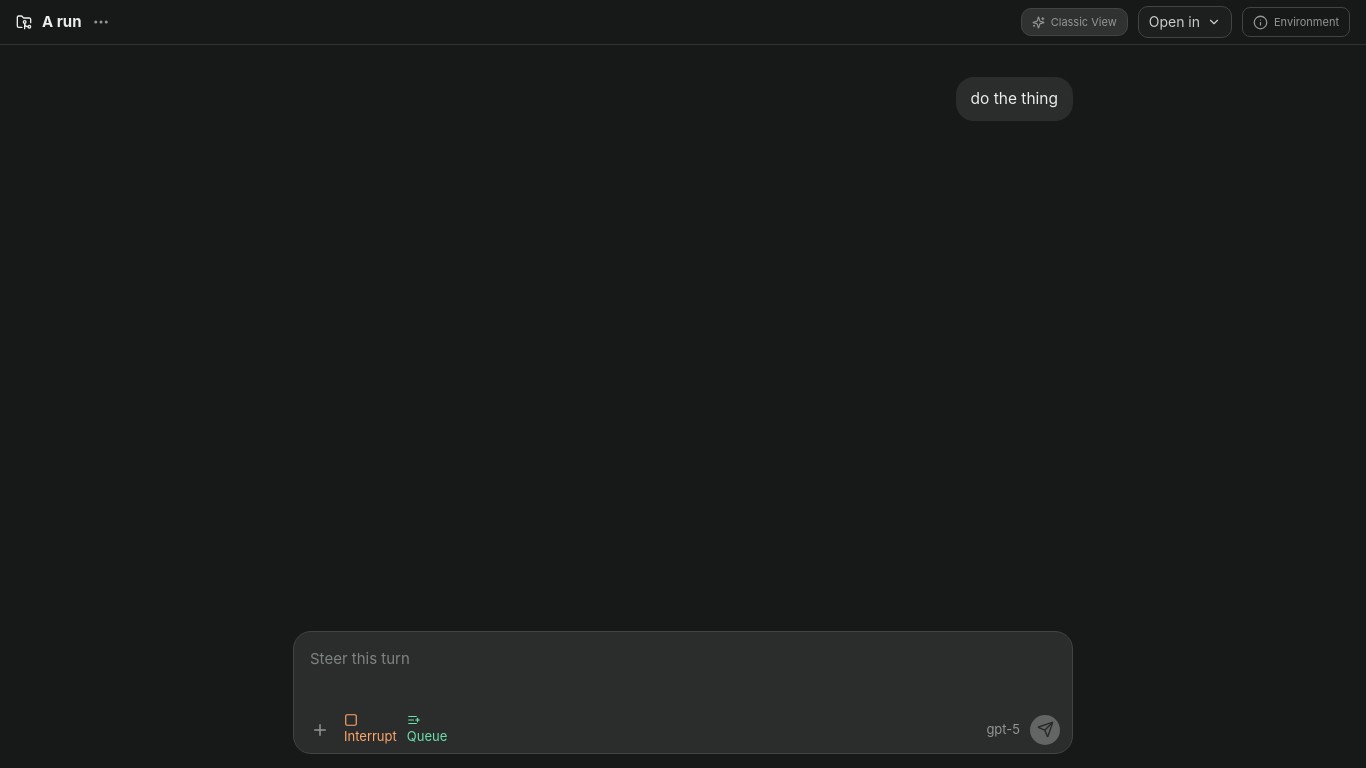
Test: RunScreen · environment › opens on request and describes where the run is executing
Click the button "Environment": (1296,22) [1242,7,1350,37]
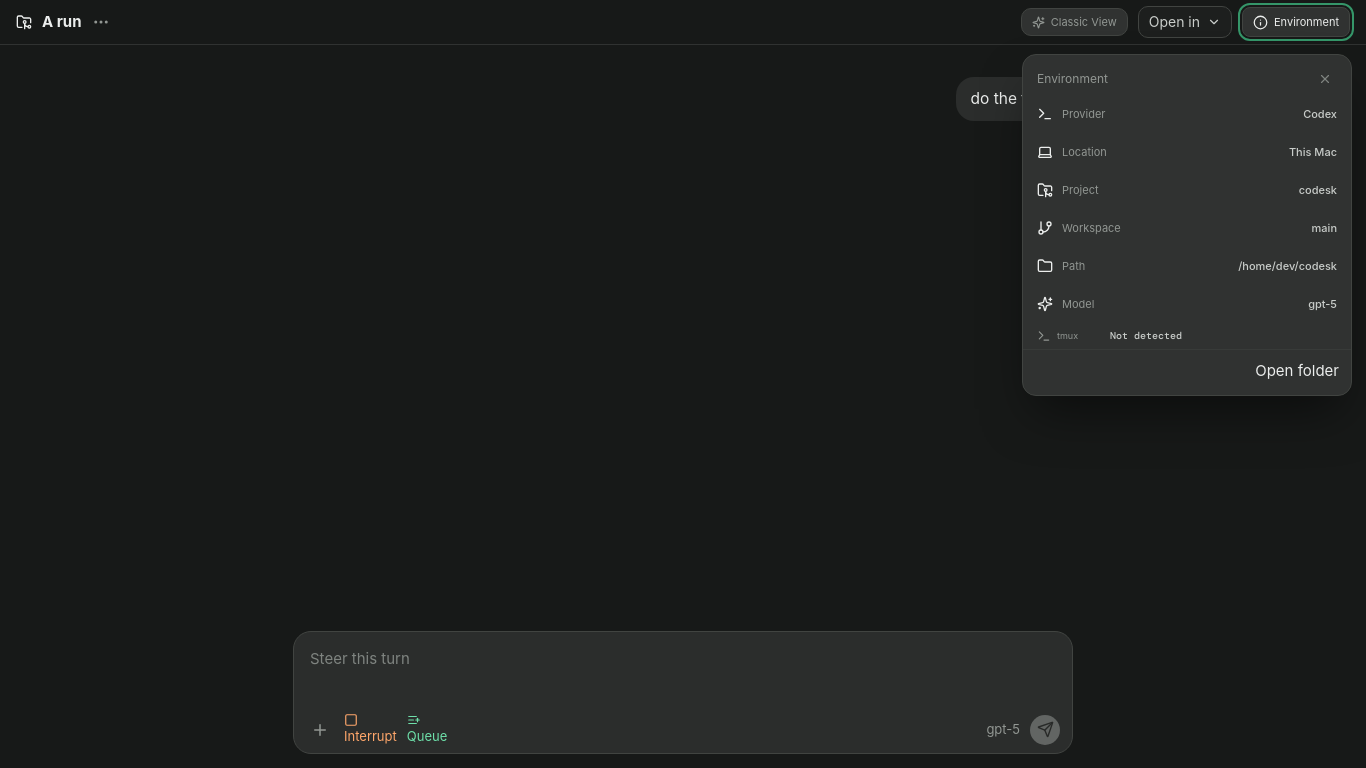
expect the text "/home/dev/codesk" is shown: met, box [1238,259,1337,273]
expect the text "This Mac" is shown: met, box [1289,145,1337,159]
